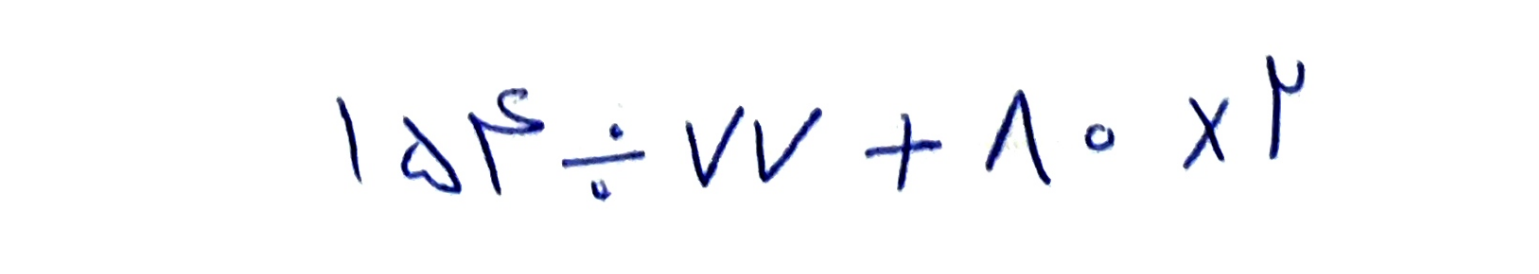character: (467, 87, 548, 192), (983, 87, 1054, 187), (561, 125, 648, 201), (863, 112, 944, 192), (751, 105, 825, 186), (684, 104, 750, 189), (398, 115, 464, 194), (1266, 54, 1304, 161), (1181, 95, 1230, 171), (334, 95, 360, 181), (1084, 122, 1116, 153)
